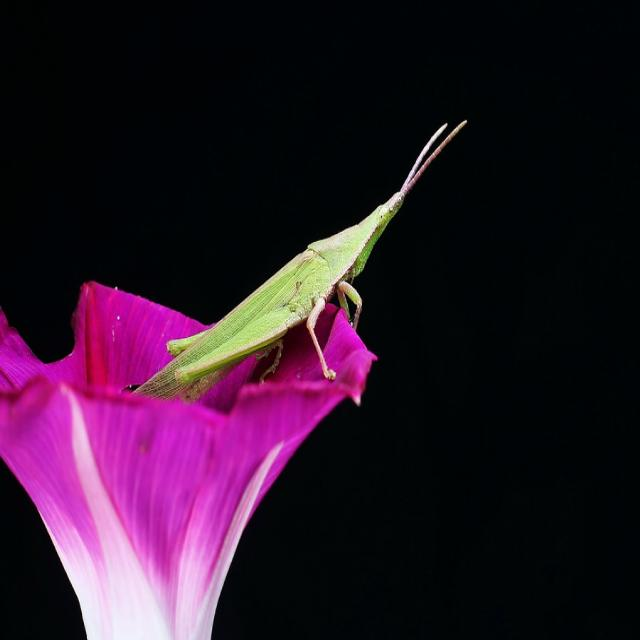ZhaMeng: (119, 124, 475, 420)
